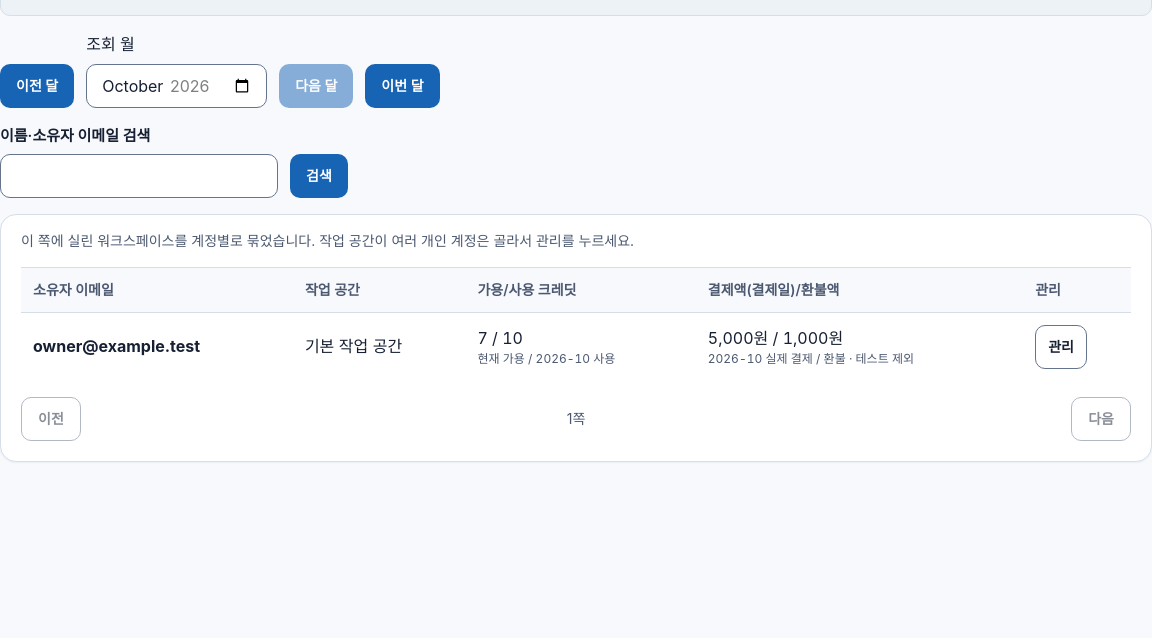
Test: 월별 관리자 작업공간 › 기본 시작일이 있어도 종료일이 없으면 이용 주기가 없다고 표시한다
Click the button "관리".
click(1061, 347)  # box left=1035, top=325, right=1087, bottom=369
(page scrolled)
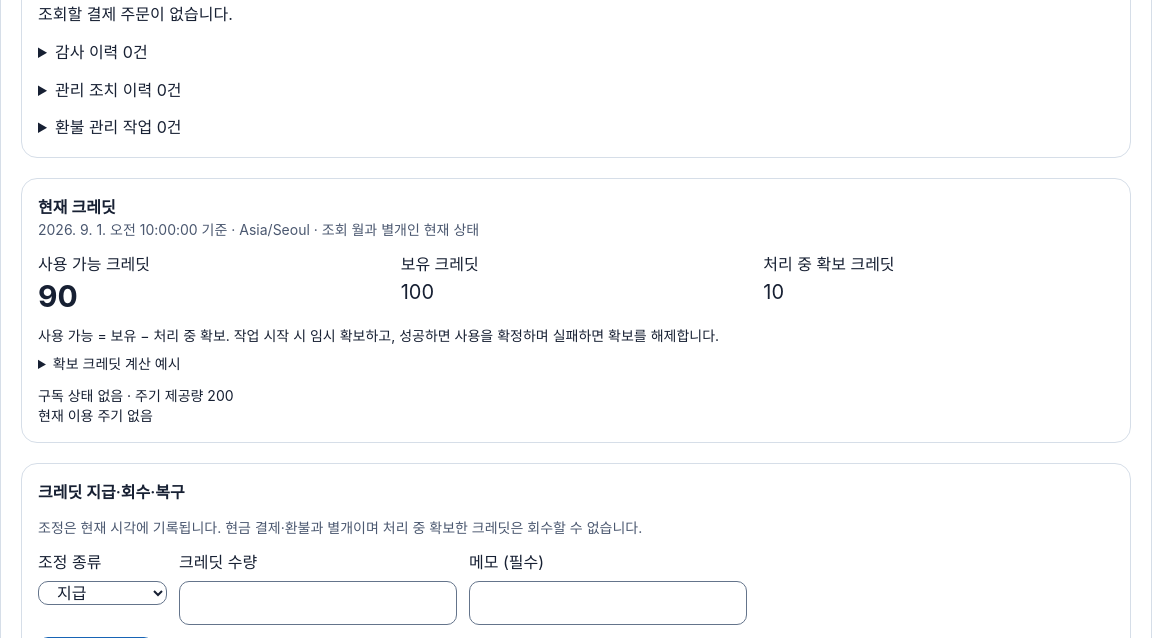
Expected: the element "현재 크레딧" does not show "2026. 1. 1.", left=21, top=178, right=1131, bottom=443
Result: the text "현재 이용 주기 없음" is shown at left=38, top=407, right=153, bottom=424
